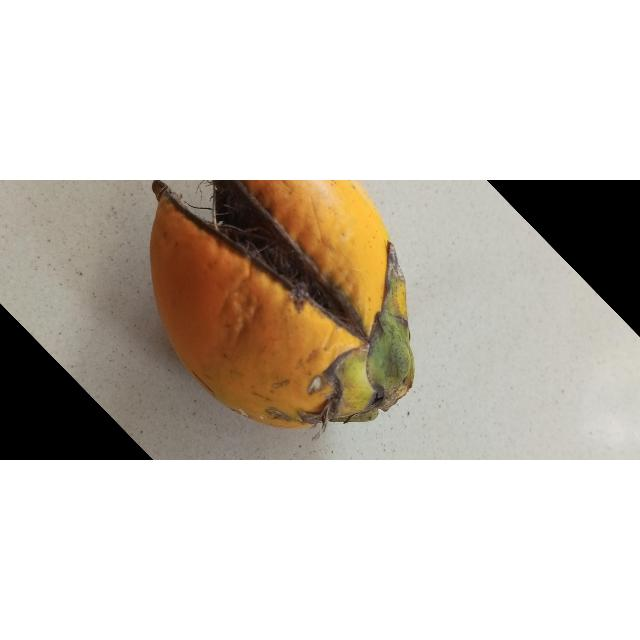damaged: (149, 180, 415, 431)
